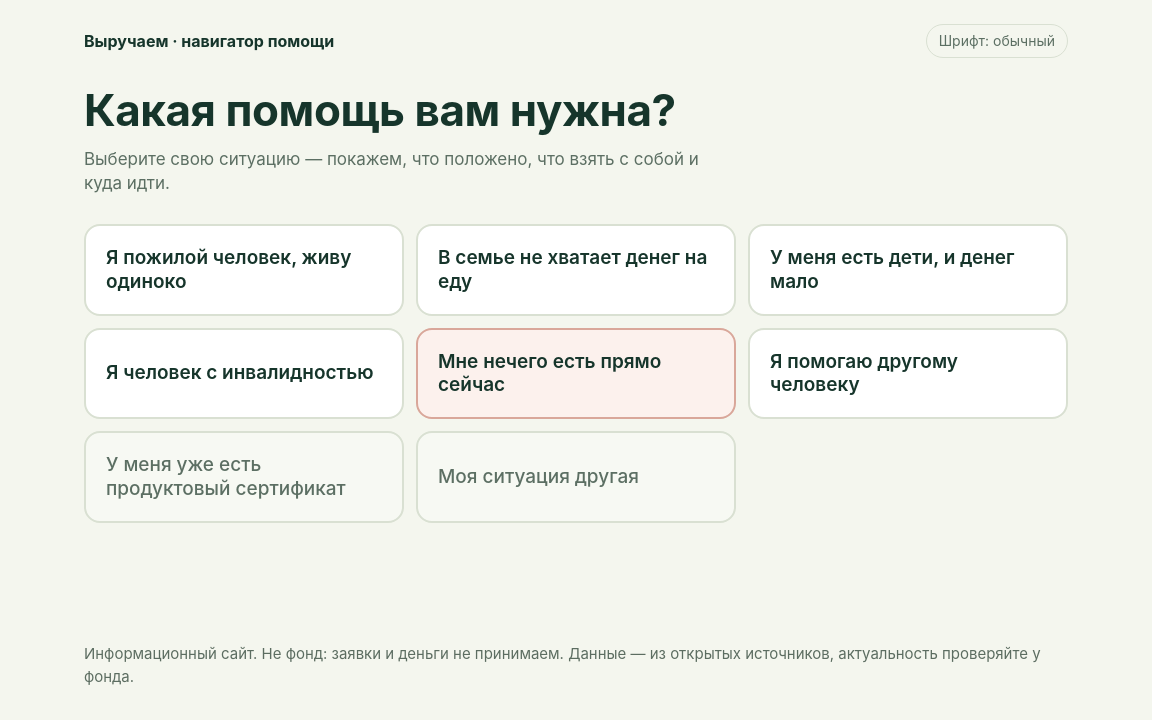
it: приложение › переключает размер шрифта и запоминает выбор
Click the button "Шрифт: обычный" at (997, 41), box [926, 24, 1068, 58]
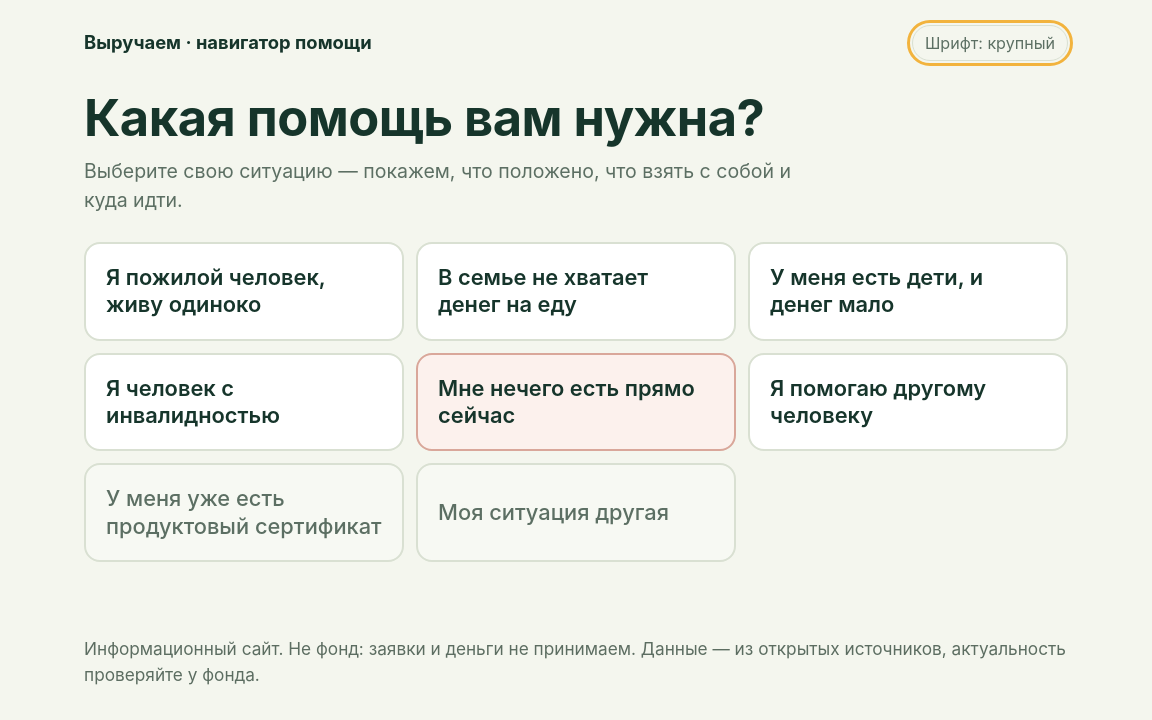
Expected: the button "Шрифт: крупный" is shown, [912, 25, 1068, 61]
